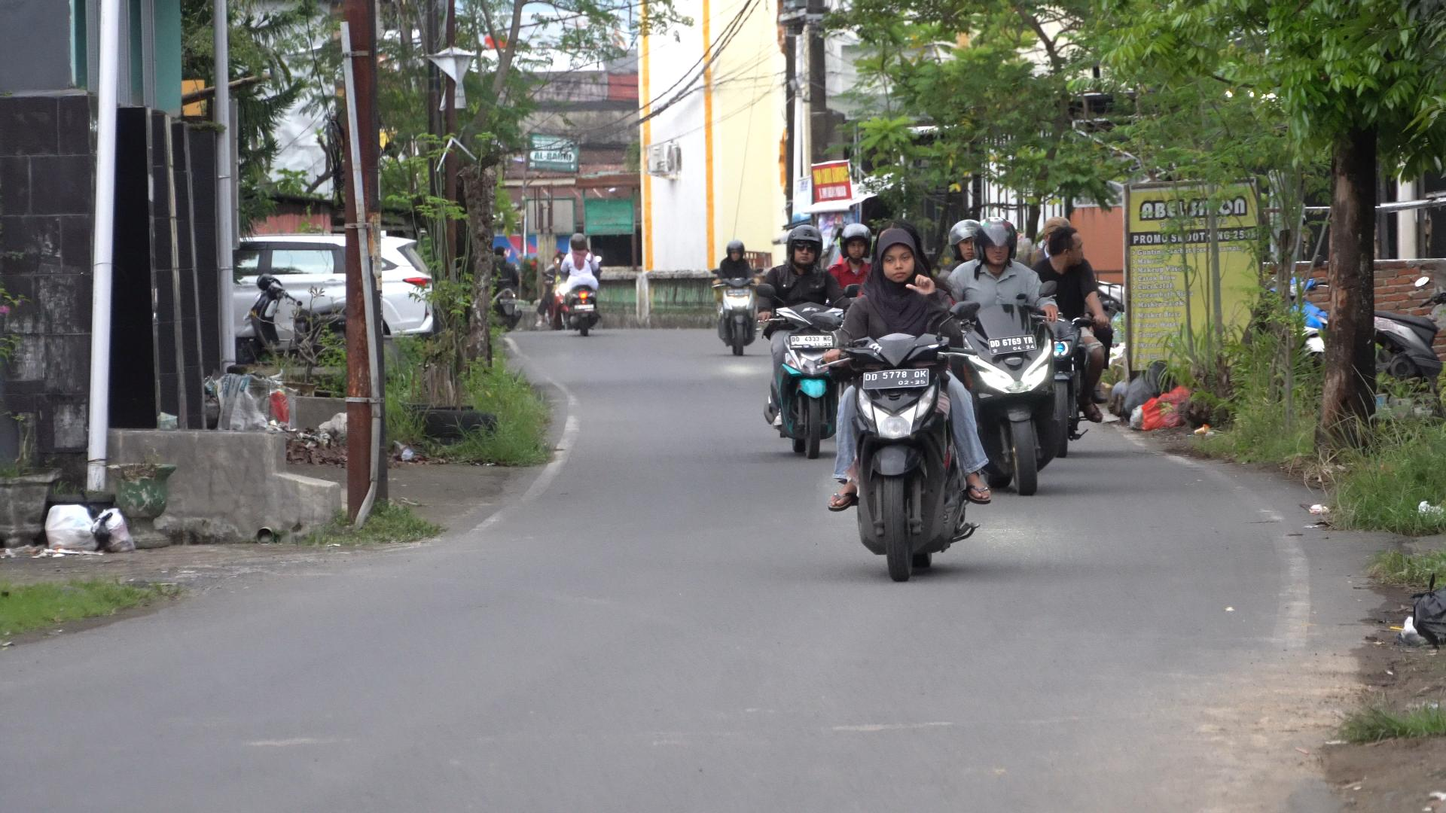number-plate: (859, 366, 928, 394), (990, 336, 1038, 354), (788, 334, 836, 350)
